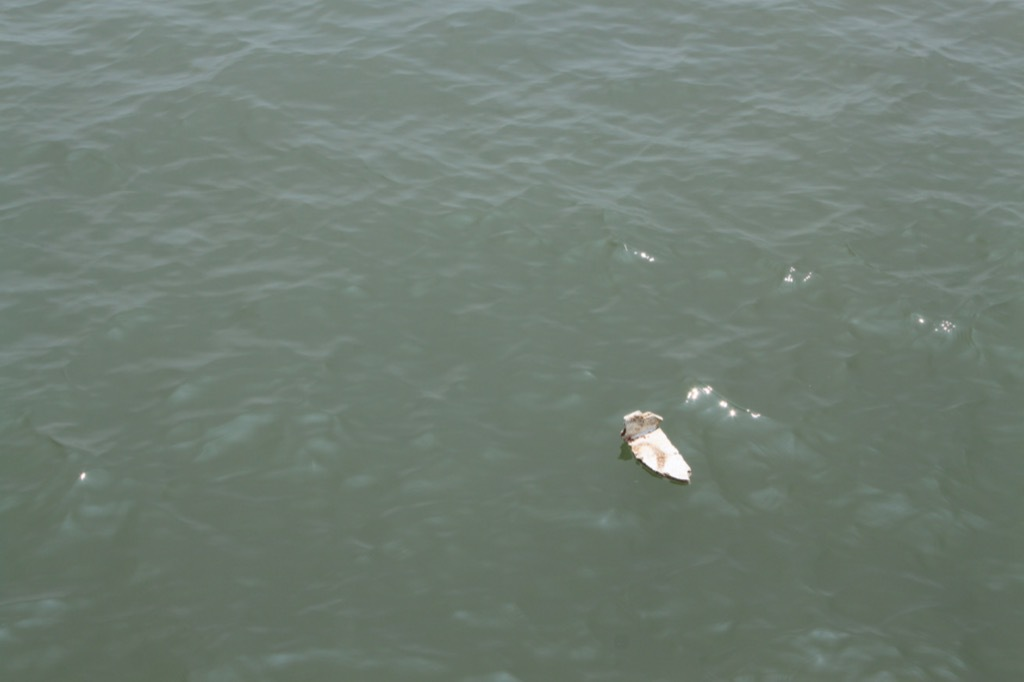plastic: (605, 391, 707, 497)
